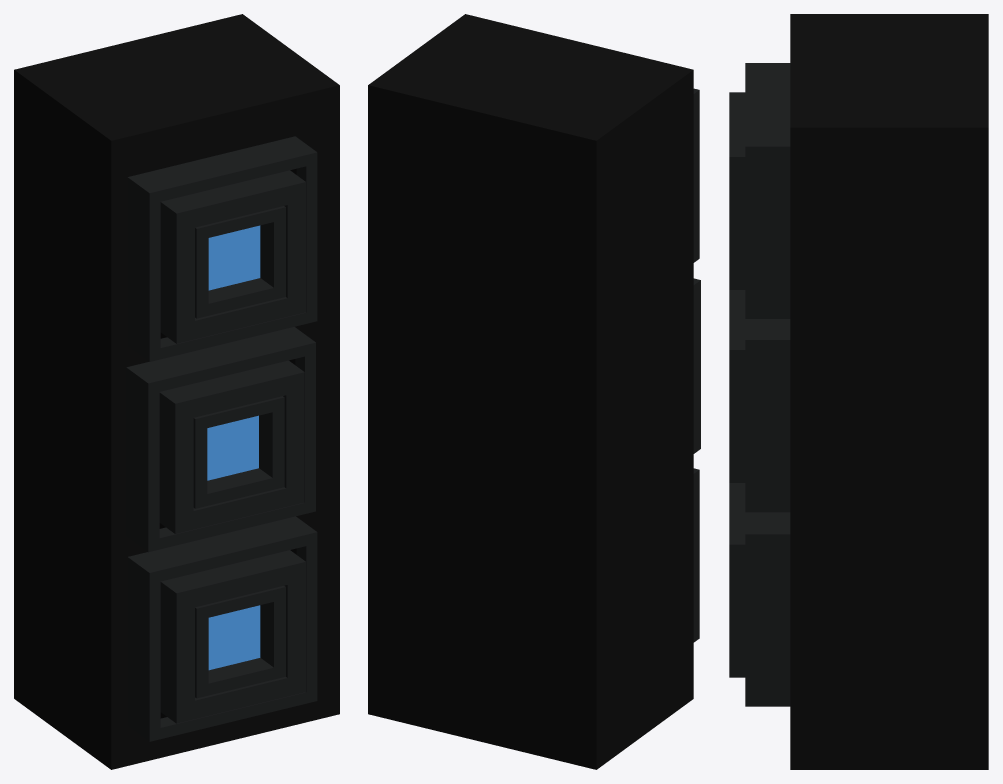
Rendered from Triple_Receptor.fbx.
3 views of the same model, side by side, from view 1: azimuth 30°, elevation 25°; view 2: azimuth 150°, elevation 25°; view 3: azimuth 270°, elevation 25° (orthographic). The views are drawn at different scales.
Visible parts, largest first — view 1: Triple_Receptor; view 2: Triple_Receptor; view 3: Triple_Receptor.
Boxes of the visible parts, left/top/right/bottom form: Triple_Receptor: left=14, top=14, right=339, bottom=769; Triple_Receptor: left=368, top=14, right=700, bottom=769; Triple_Receptor: left=729, top=14, right=988, bottom=769.
Bounding box in the file's own units: 13.26 × 34.88 × 12.77.
